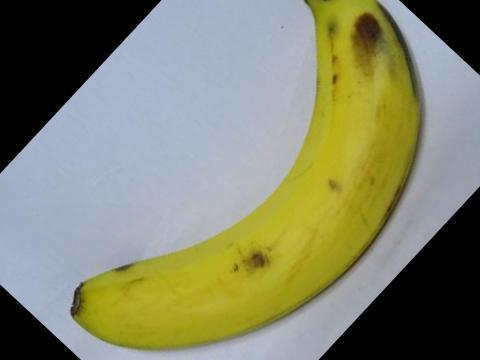freshripe: (60, 0, 426, 359)
